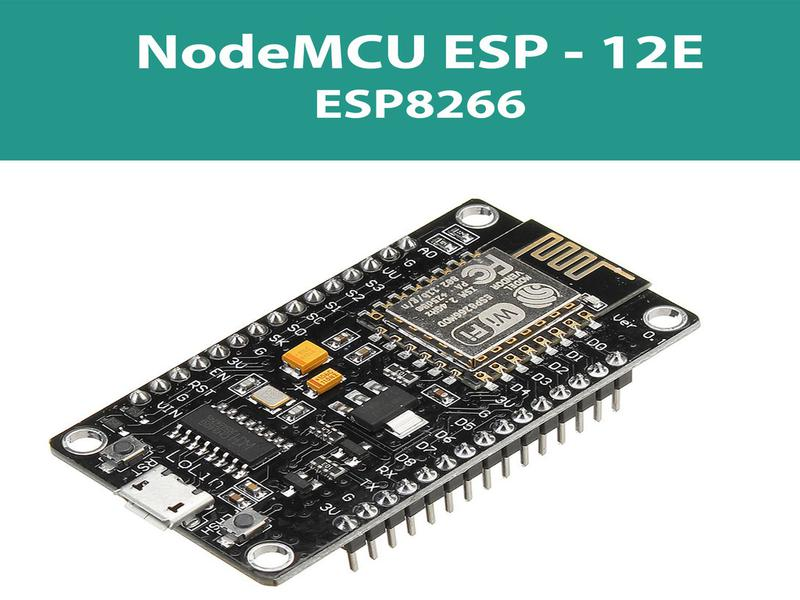ESP8266: (39, 189, 711, 593)
